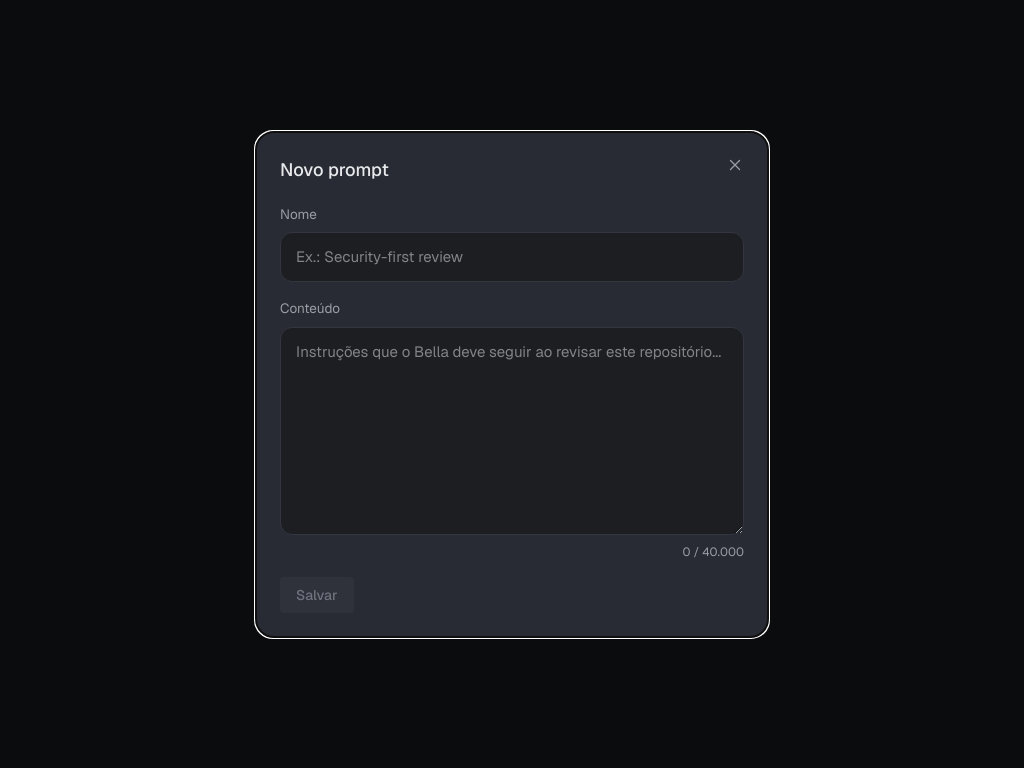
Test: PromptFormModal › shows a friendly message for a duplicate name and keeps the modal open
The width and height of the screenshot is (1024, 768).
In the field labelled "Nome": (512, 257) [280,232,744,282], type "Security-first review"
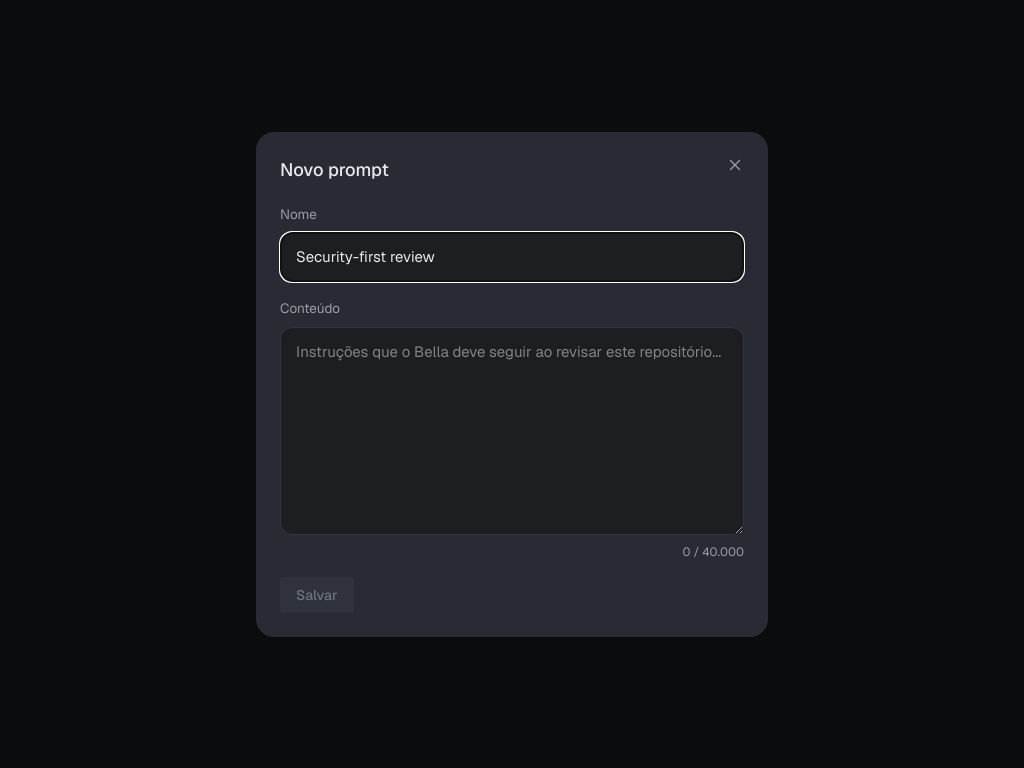
In the text box labelled "Conteúdo": (512, 430) [280,326,744,534], type "Conteúdo qualquer"
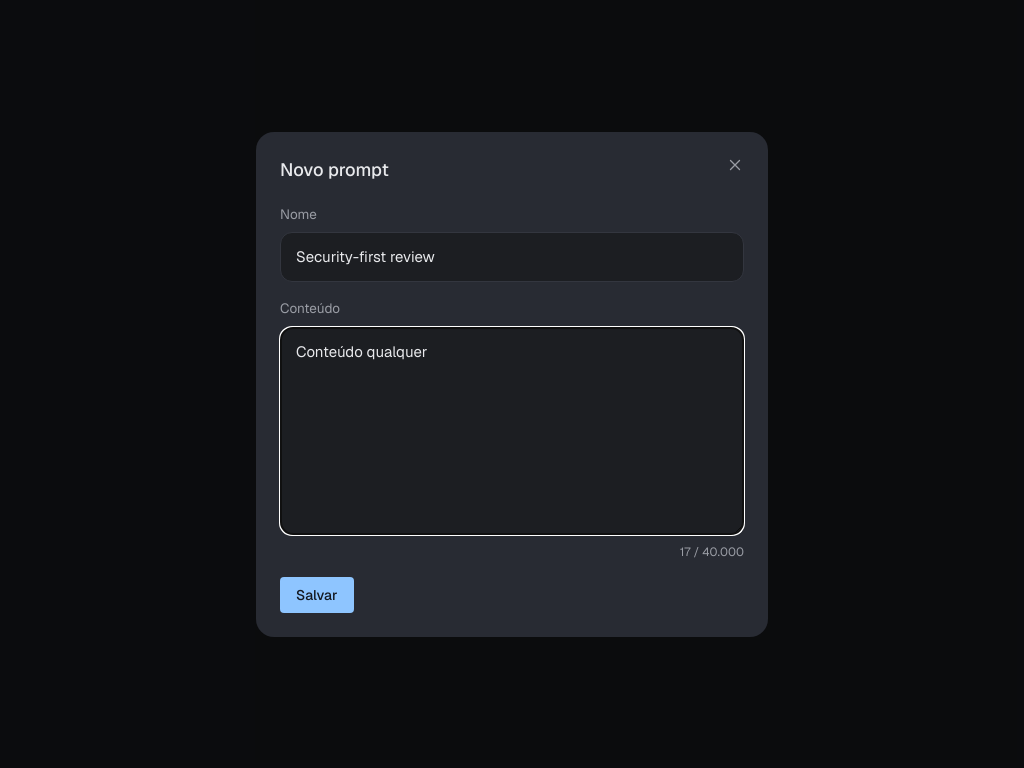
Click the button "Salvar": (317, 594) [280,576,354,612]
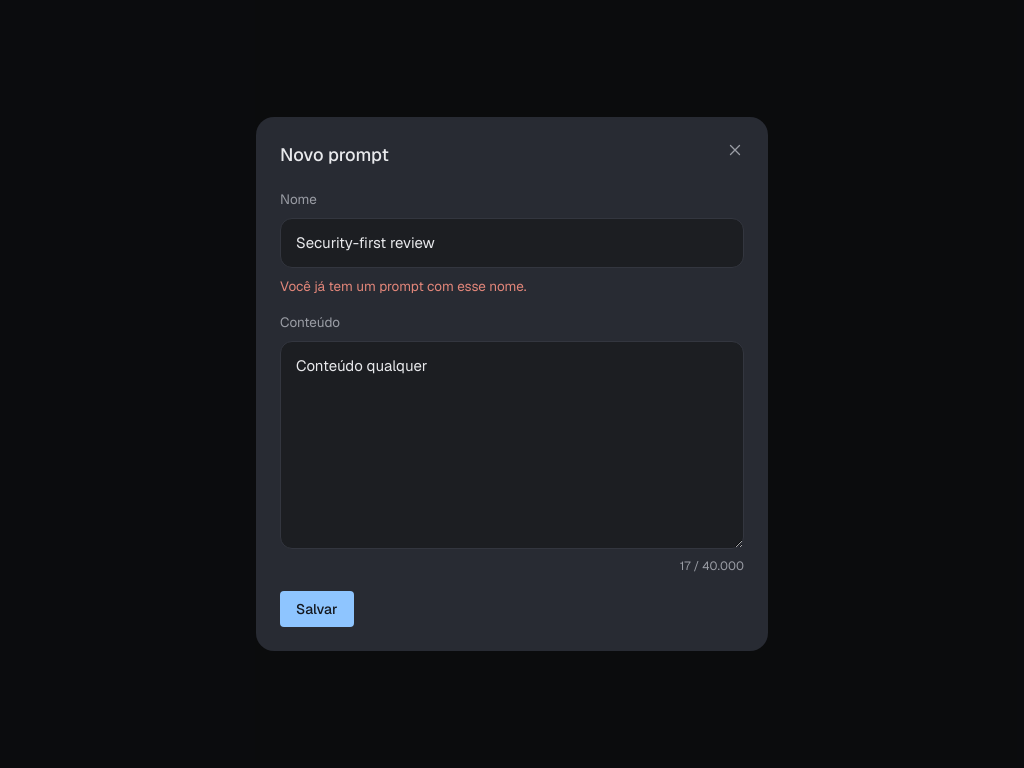
Now the message reads "Você já tem um prompt com esse nome.", box [280,277,526,295]
